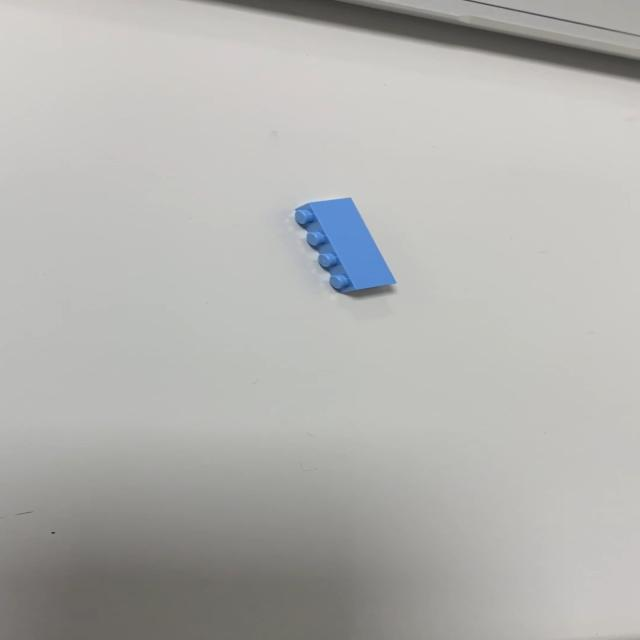C4x1x1: (292, 196, 397, 294)
